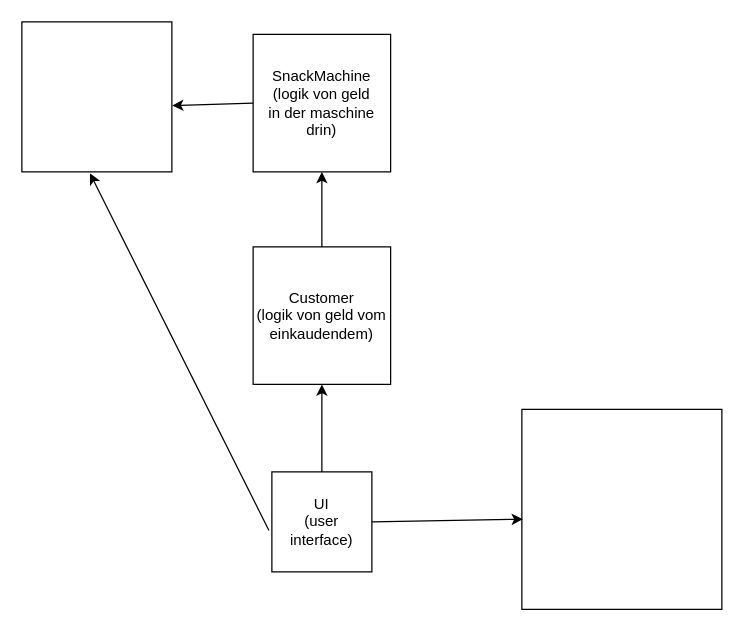
Some shapes in this 744 by 631 pixel diagram are drawn without their labels. Each missing label, with the centre of its shape:
SecretKeyAuthenticator (secret key authentifizierung): (x=621, y=508)
SnackInventory (inventar, preise): (x=96, y=96)
